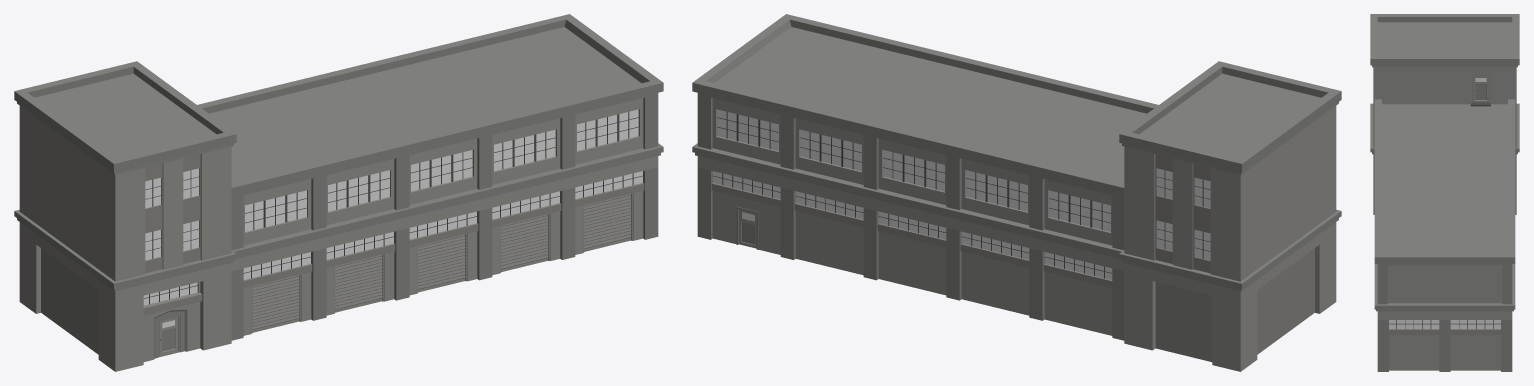
Rendered from SM_Bldg_City_Industrial_02.fbx.
3 views of the same model, side by side, from view 1: azimuth 30°, elevation 25°; view 2: azimuth 150°, elevation 25°; view 3: azimuth 270°, elevation 25° (orthographic). The views are drawn at different scales.
Parts seen in each view (by area): view 1: SM_Bldg_City_Industrial_02; view 2: SM_Bldg_City_Industrial_02; view 3: SM_Bldg_City_Industrial_02.
Part boxes in pixels (x1=…): SM_Bldg_City_Industrial_02: x1=14, y1=14, x2=663, y2=371; SM_Bldg_City_Industrial_02: x1=692, y1=14, x2=1341, y2=371; SM_Bldg_City_Industrial_02: x1=1370, y1=14, x2=1519, y2=371.
Bounding box in the file's own units: 3330 × 1210 × 1040.
